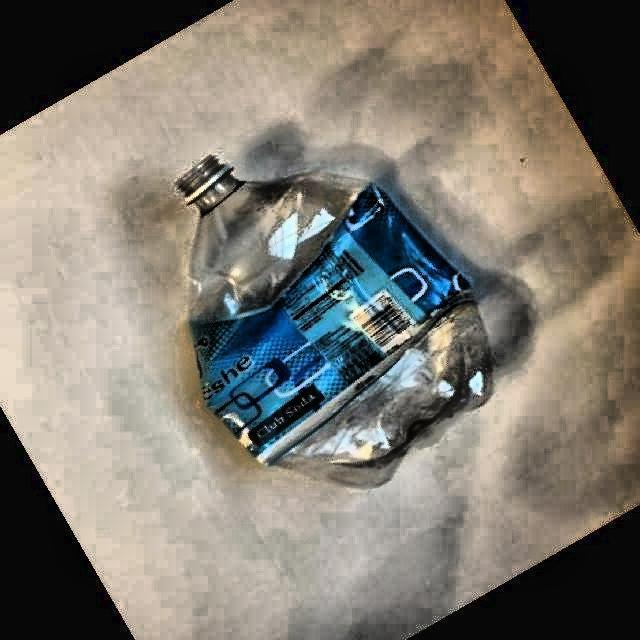plastic: (178, 156, 491, 486)
